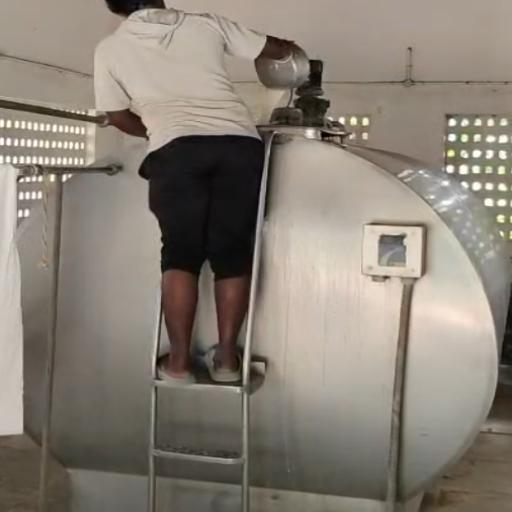silo: (18, 122, 508, 511)
vessel: (253, 44, 311, 92)
